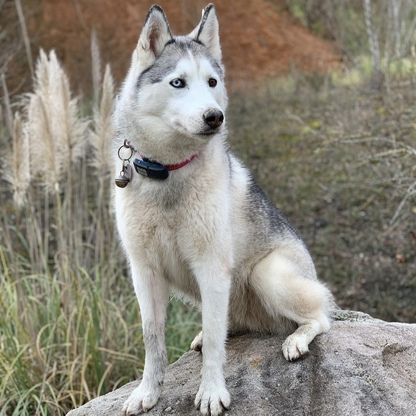husky: (101, 1, 340, 416)
